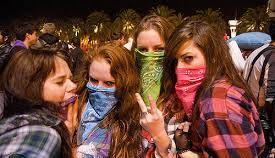NONE: (44, 72, 80, 115), (29, 31, 40, 45)
OK: (88, 67, 127, 106), (175, 53, 208, 89), (136, 41, 168, 77)
